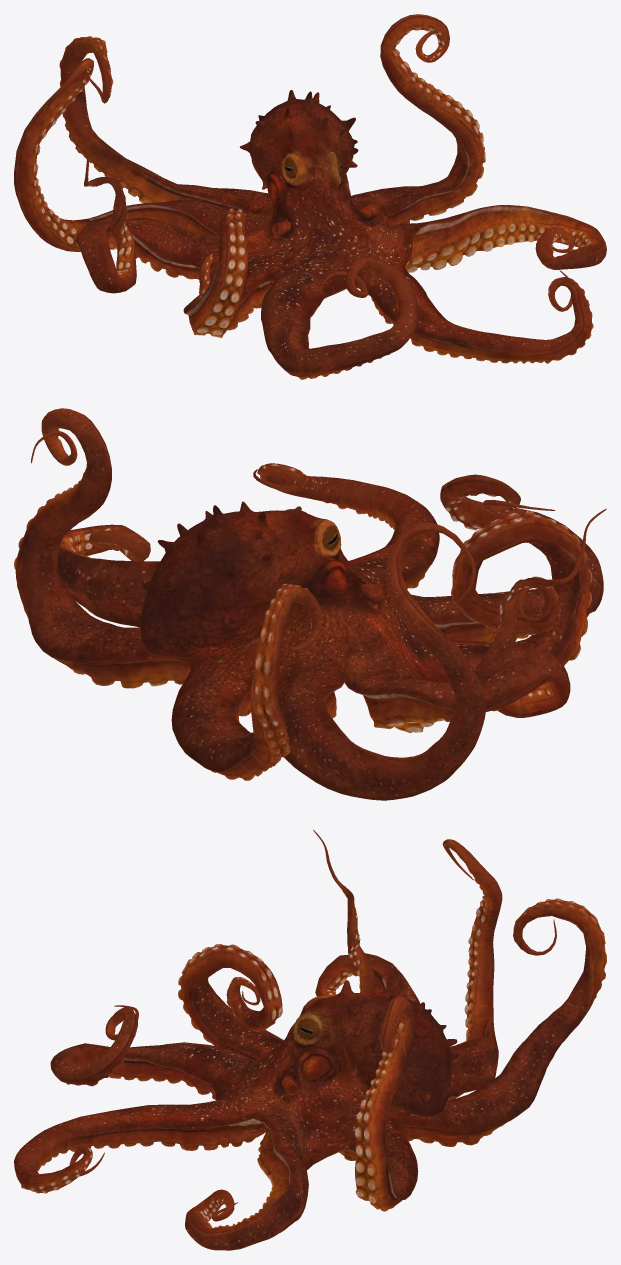
Rendered from octopus.glb.
3 views of the same model, one above another, from view 1: azimuth 30°, elevation 25°; view 2: azimuth 150°, elevation 25°; view 3: azimuth 270°, elevation 25° (orthographic). The views are drawn at different scales.
Visible parts, largest first — view 1: octopus.1; view 2: octopus.1; view 3: octopus.1.
Boxes of the visible parts, left/top/right/bottom form: octopus.1: left=14, top=14, right=606, bottom=379; octopus.1: left=14, top=408, right=606, bottom=800; octopus.1: left=14, top=829, right=606, bottom=1250.
Bounding box in the file's own units: 0.0778 × 0.0334 × 0.0828.
1 material, 1 textured.
